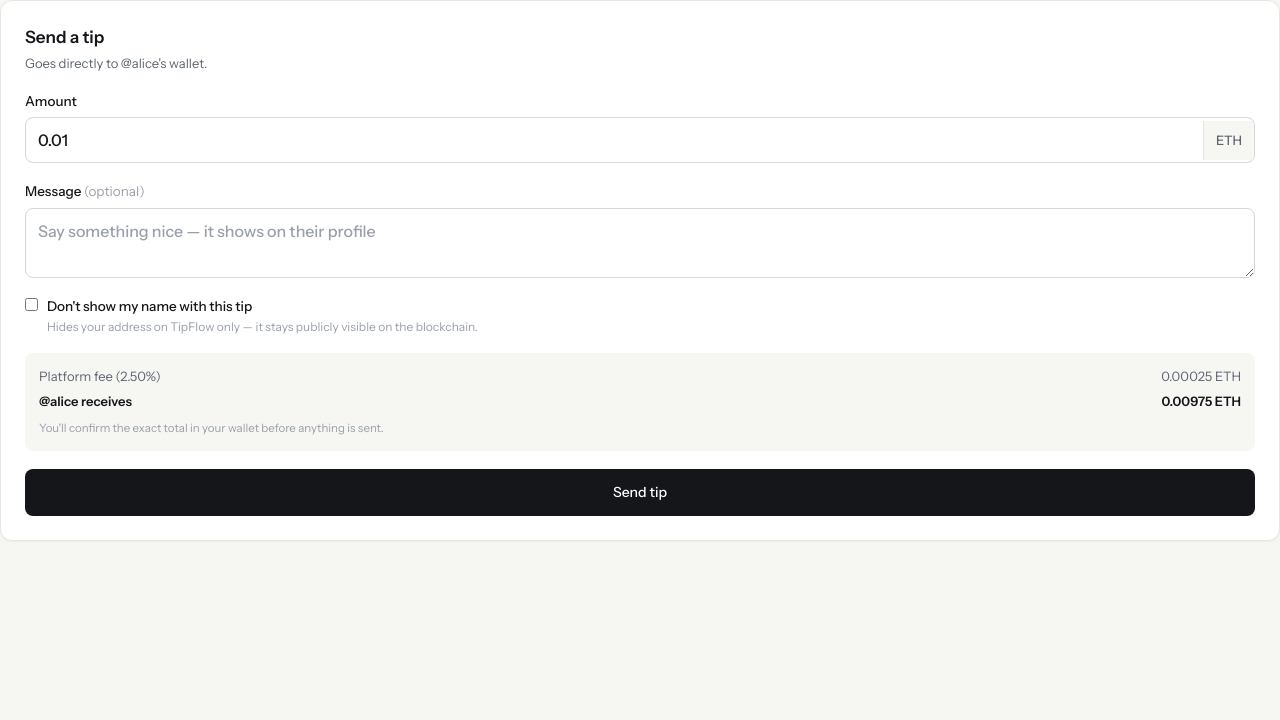
Scenario: TipForm › sends the tip with the displayed fee as the accepted maximum
The image size is (1280, 720).
In the text box named "Tip message": coordinates (640, 242) [25,208,1255,278], type "great work"
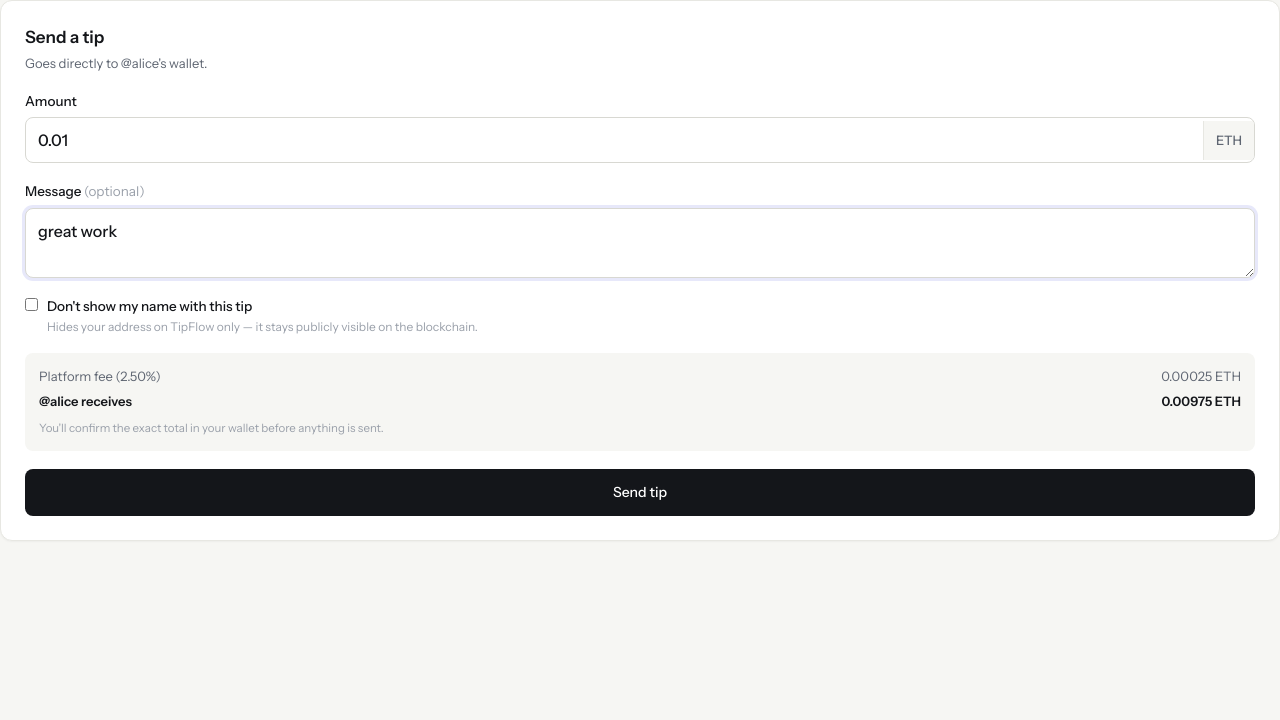
Click the button "Send tip": coordinates (640, 492) [25,469,1255,516]
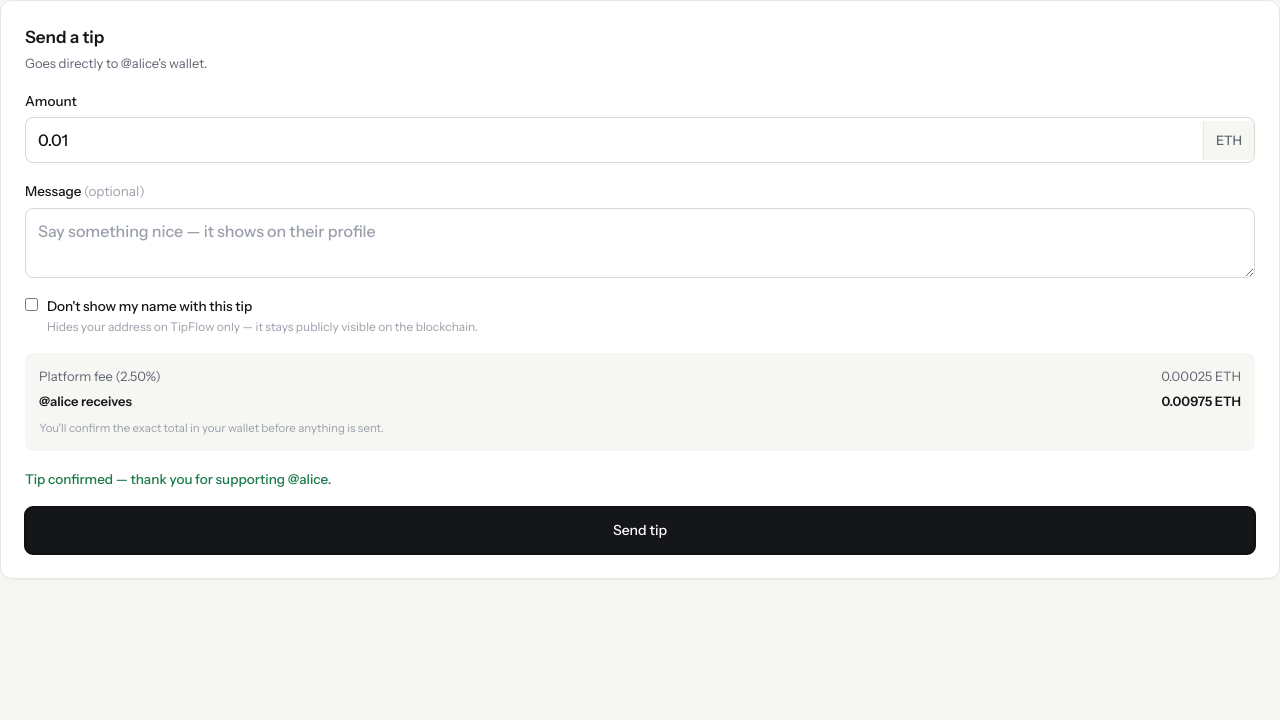
Result: the message shows "Tip confirmed" at [25,471,299,487]
